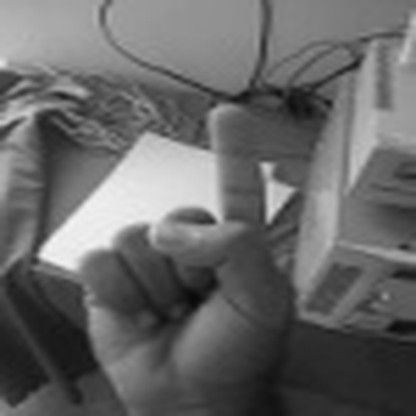d: (76, 97, 294, 411)
